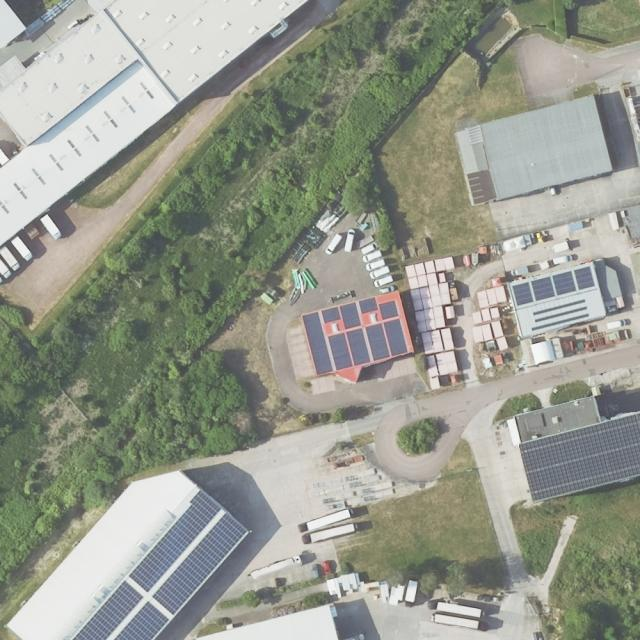PV: (519, 413, 640, 501), (152, 513, 248, 616), (129, 490, 222, 592), (73, 580, 143, 640), (113, 601, 169, 640), (302, 311, 333, 374), (531, 313, 590, 331), (534, 298, 586, 315), (535, 306, 587, 323), (347, 328, 370, 366), (383, 319, 407, 355), (366, 324, 389, 361), (328, 333, 352, 368), (531, 276, 555, 301), (340, 302, 362, 329), (553, 271, 575, 295), (574, 266, 595, 290), (513, 282, 533, 305), (380, 300, 398, 320), (359, 297, 378, 314), (322, 306, 340, 323)
